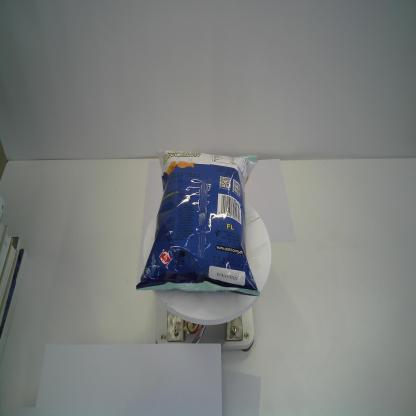Puffed Food: (136, 148, 262, 299)
